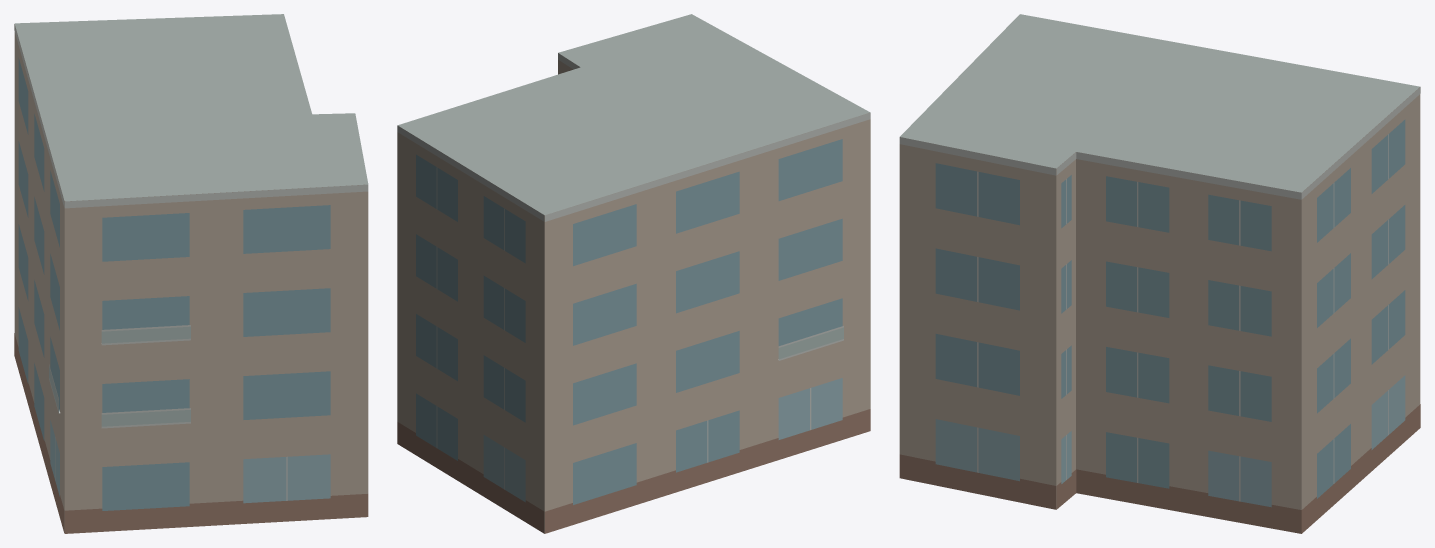
File: survey-upis-32703023.glb
3 views of the same model, side by side, from view 1: azimuth 30°, elevation 25°; view 2: azimuth 150°, elevation 25°; view 3: azimuth 270°, elevation 25° (orthographic). The views are drawn at different scales.
Visible parts, largest first — view 1: survey-upis-32703023.tmp; view 2: survey-upis-32703023.tmp; view 3: survey-upis-32703023.tmp.
Part boxes in pixels (x1,y1,x2,y2): survey-upis-32703023.tmp: [14, 14, 368, 533]; survey-upis-32703023.tmp: [397, 14, 870, 533]; survey-upis-32703023.tmp: [899, 14, 1420, 533].
Bounding box in the file's own units: 13.03 × 11.6 × 16.05.
